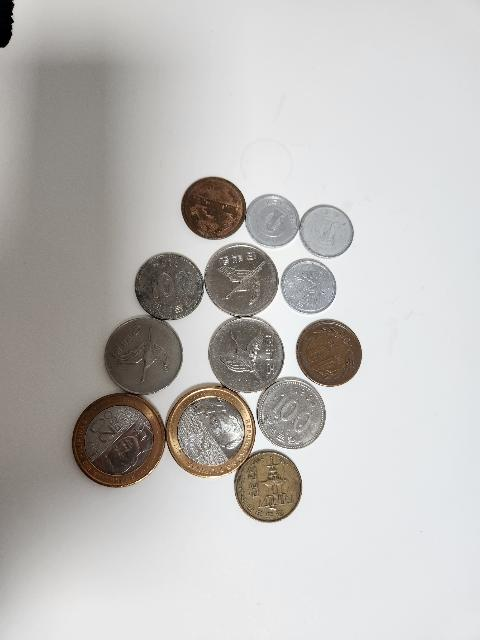coin: (74, 392, 166, 488), (166, 384, 255, 476), (106, 316, 184, 396), (205, 239, 279, 317), (209, 315, 282, 393), (234, 450, 306, 524), (256, 374, 326, 448), (135, 252, 204, 320), (298, 318, 362, 386), (181, 175, 247, 237), (297, 200, 355, 258), (282, 258, 336, 314), (246, 192, 300, 246)
